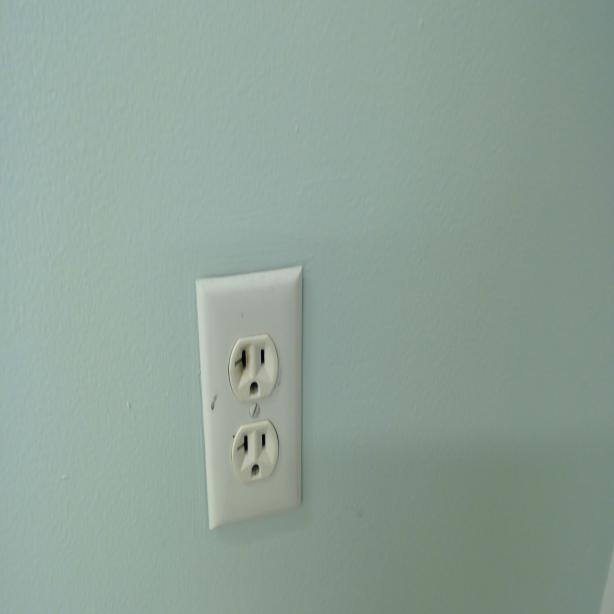typeb: (230, 338, 276, 400), (232, 425, 279, 479)
